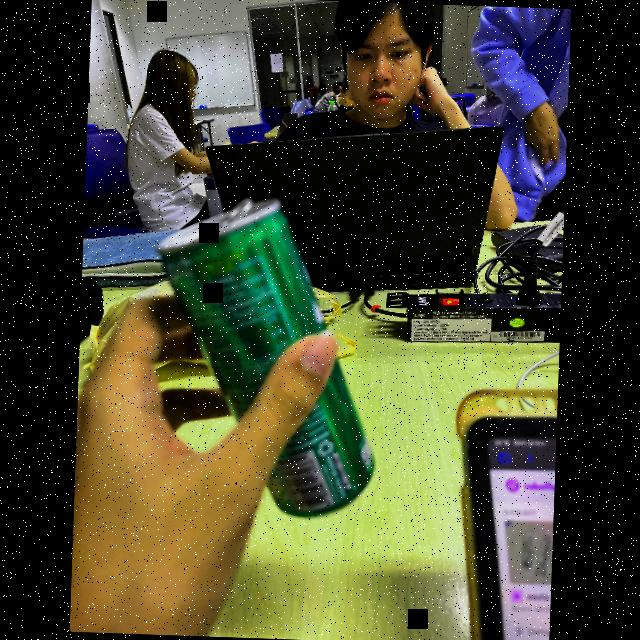can: (135, 199, 406, 522)
